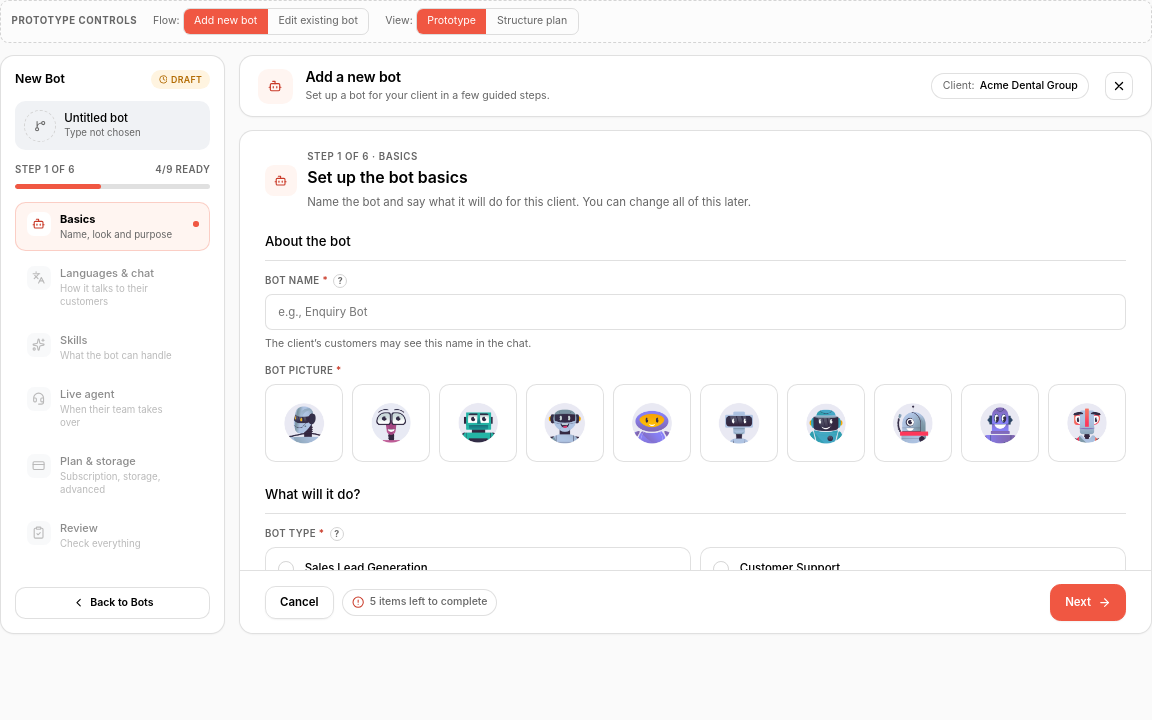
Test: bot setup wizard › lists problems on Review and jumps to the field
Click the button "Edit existing bot". click: [318, 21]
box: [268, 9, 368, 34]
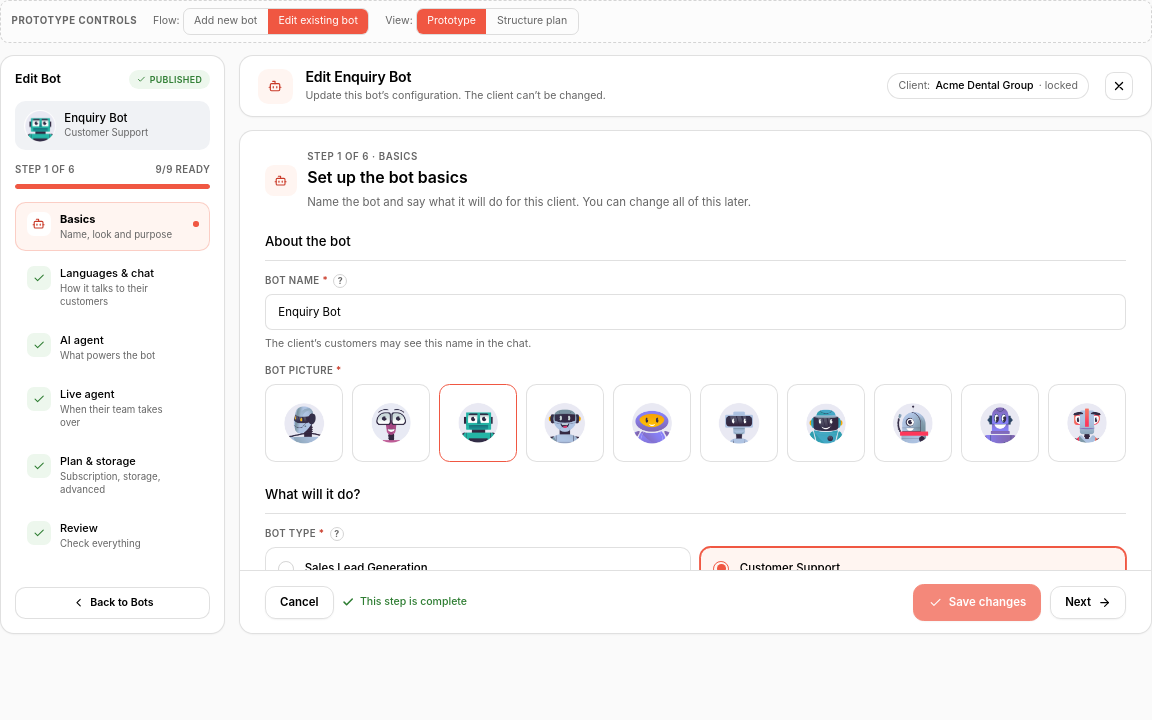
Click the button with class "rstep" that starts with "Plan & storage". click: [113, 475]
box: [15, 444, 210, 506]
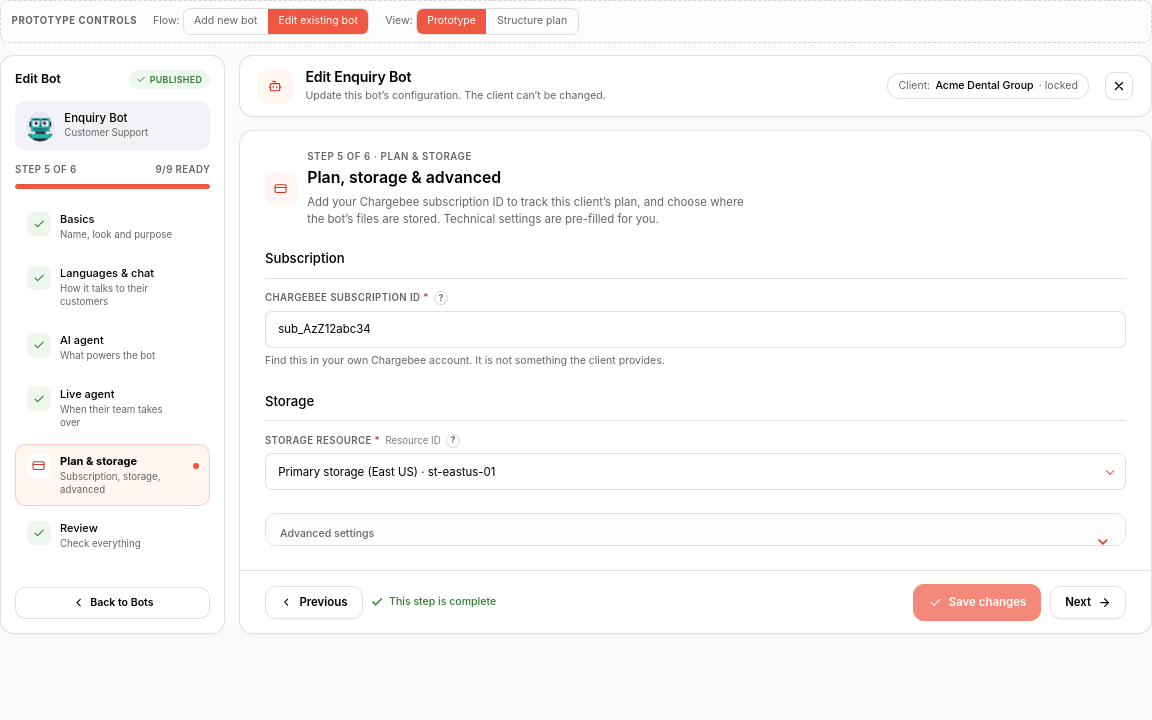
Clear the field with id "f-chargebeeId". click: [696, 329]
box: [265, 311, 1126, 348]
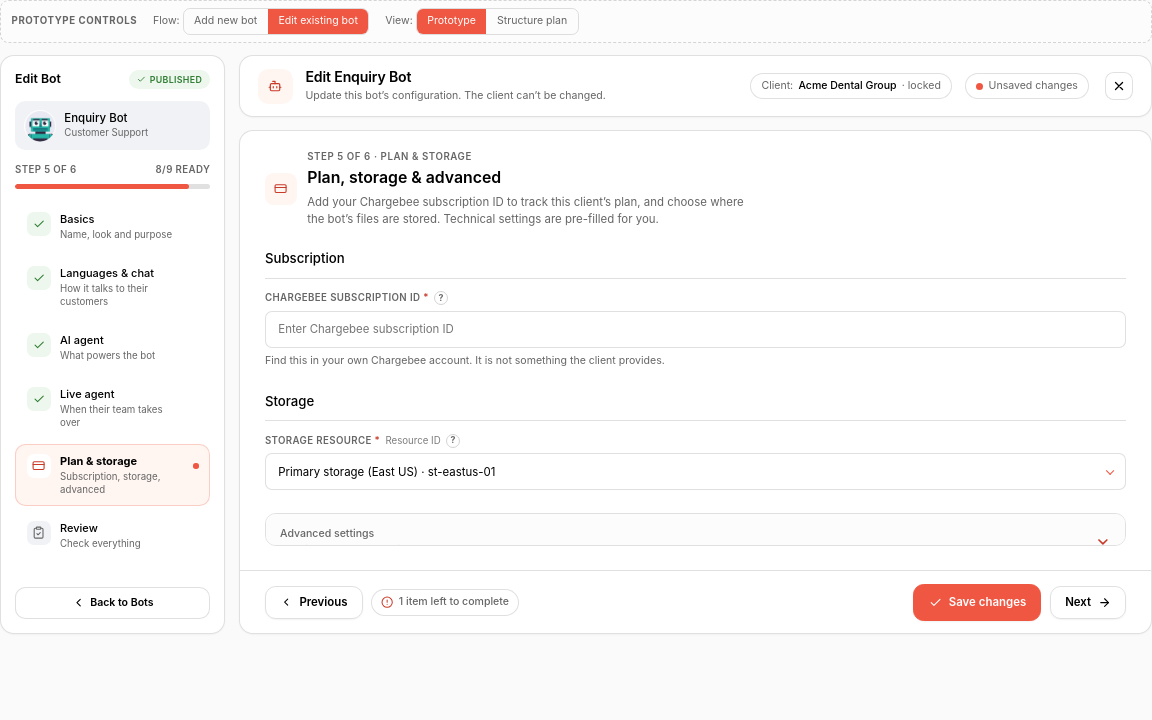
Click the button with class "rstep" showing "Review Check everything". click: [113, 535]
box: [15, 511, 210, 560]
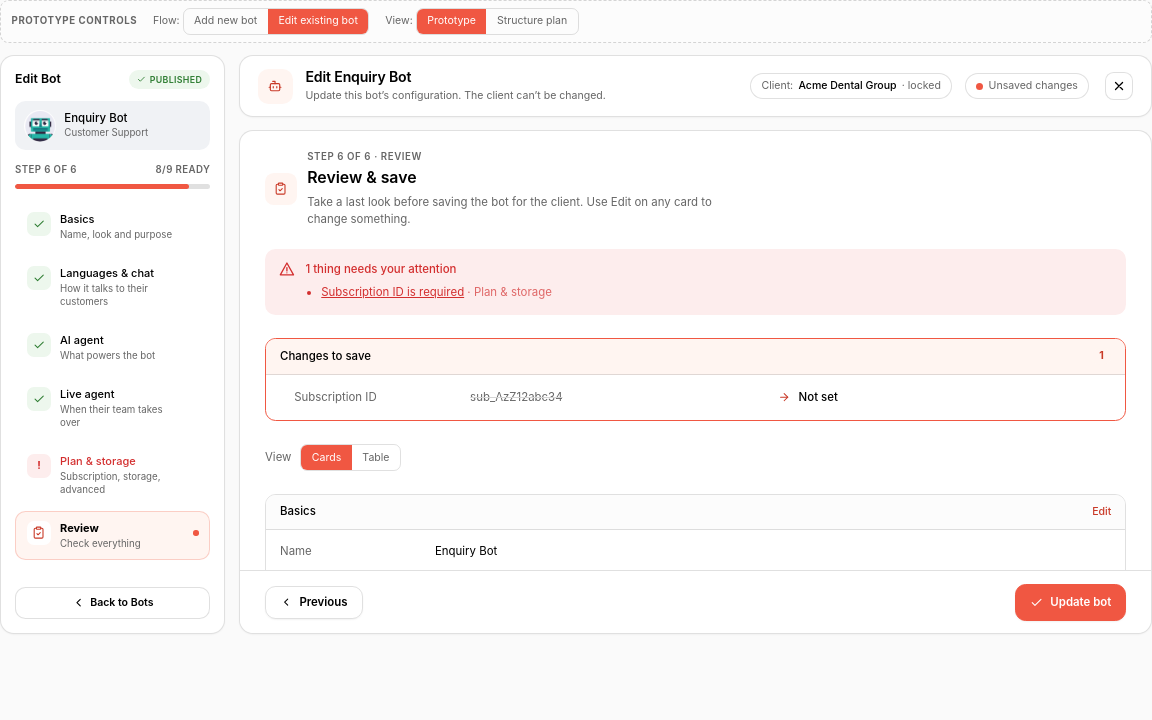
Click the button "Subscription ID is required". click: [393, 292]
box: [321, 284, 464, 301]
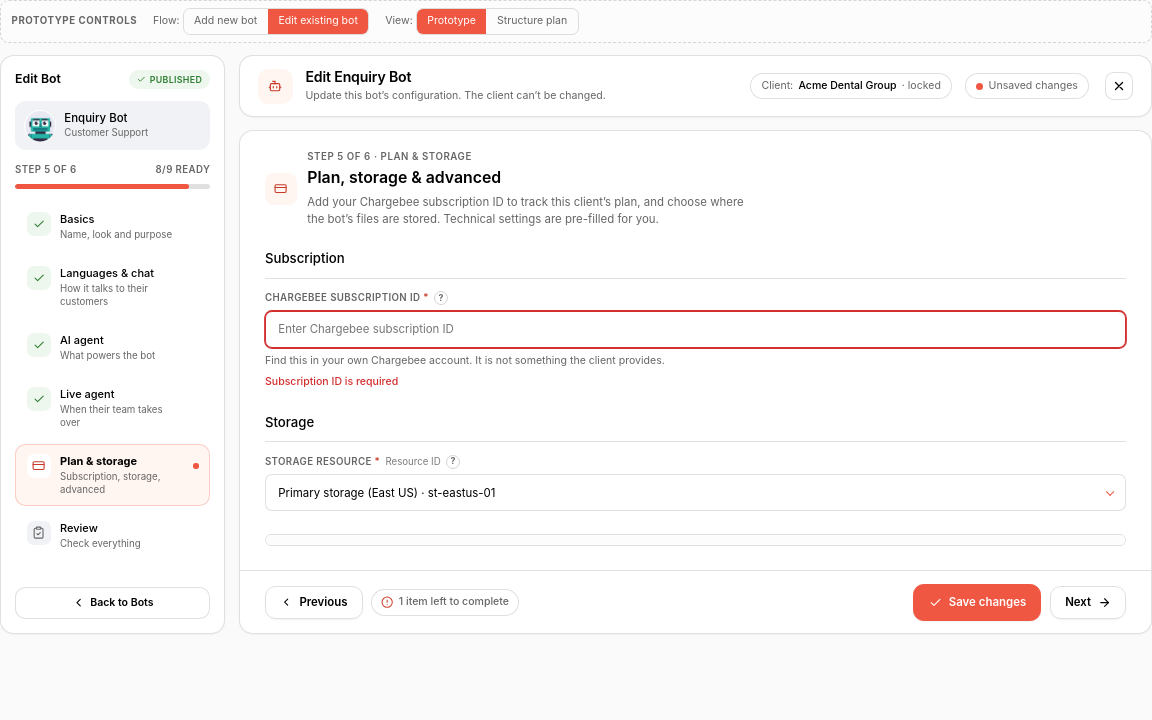
Expected: the heading "Plan, storage & advanced" is shown, [307, 168, 501, 187]
